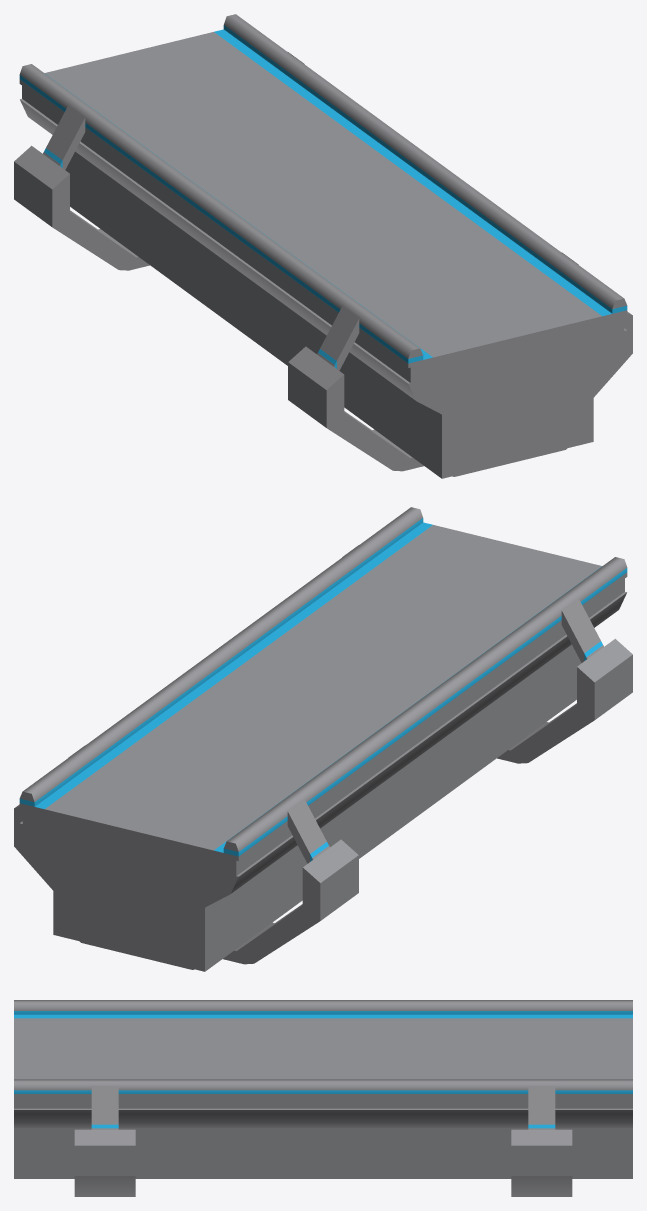
File: SM_SlidingPlatform_01.fbx
3 views of the same model, one above another, from view 1: azimuth 30°, elevation 25°; view 2: azimuth 150°, elevation 25°; view 3: azimuth 270°, elevation 25° (orthographic). The views are drawn at different scales.
Parts seen in each view (by area): view 1: SM_SlidingPlatform_01; view 2: SM_SlidingPlatform_01; view 3: SM_SlidingPlatform_01.
Part boxes in pixels (x1=…): SM_SlidingPlatform_01: x1=14, y1=14, x2=632, y2=478; SM_SlidingPlatform_01: x1=14, y1=507, x2=632, y2=971; SM_SlidingPlatform_01: x1=14, y1=1000, x2=632, y2=1196.
Bounding box in the file's own units: 7.51 × 3.65 × 16.49.
